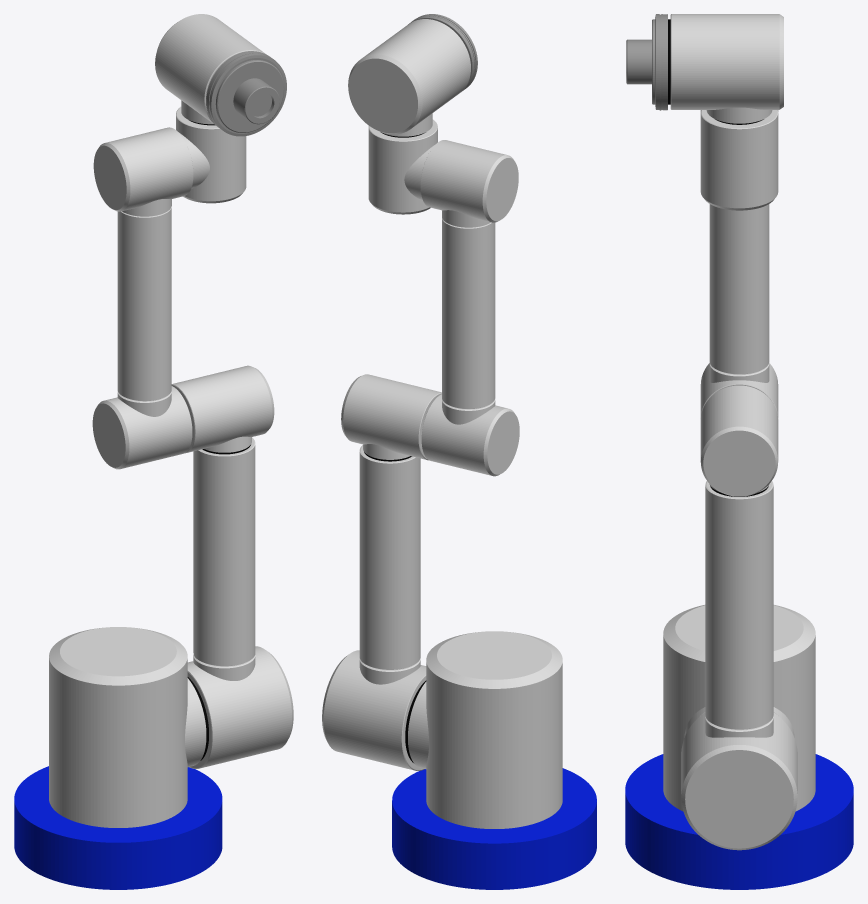
The model's file is arm01.glb.
The picture shows the model from 3 angles, left to right: view 1: azimuth 30°, elevation 25°; view 2: azimuth 150°, elevation 25°; view 3: azimuth 270°, elevation 25°; orthographic projection. The views are drawn at different scales.
Parts seen in each view (by area): view 1: Root01, Base, Arm01_Arm, Arm02_Arm, Arm01_BaseJoint, Arm02_EndJoint, Arm01_EndJoint, Arm03_EndJoint, Arm02_BaseJoint, Tip, Arm03_BaseJoint, Root01_Side (+3 smaller); view 2: Root01, Base, Arm01_Arm, Arm03_EndJoint, Arm02_Arm, Arm01_BaseJoint, Arm02_EndJoint, Arm01_EndJoint, Arm02_BaseJoint, Arm03_BaseJoint, Root01_Side, Tip (+3 smaller); view 3: Base, Arm01_Arm, Arm01_BaseJoint, Root01, Arm03_EndJoint, Arm02_Arm, Arm01_EndJoint, Arm03_BaseJoint, Tip, Arm02_BaseJoint, Arm03_EndJoint_Side, Arm01_BaseJoint_Side (+1 smaller).
Boxes of the visible parts, box(x1,y1,x2,y2) form: Root01: box(49, 627, 187, 827); Base: box(14, 766, 222, 889); Arm01_Arm: box(193, 437, 255, 666); Arm02_Arm: box(117, 207, 171, 401); Arm01_BaseJoint: box(187, 646, 293, 768); Arm02_EndJoint: box(93, 127, 193, 211); Arm01_EndJoint: box(171, 365, 274, 453); Arm03_EndJoint: box(155, 14, 266, 125); Arm02_BaseJoint: box(92, 386, 192, 469); Tip: box(206, 51, 286, 136); Arm03_BaseJoint: box(176, 107, 246, 203); Root01_Side: box(185, 678, 206, 767); Root01: box(426, 631, 562, 828); Base: box(392, 768, 596, 889); Arm01_Arm: box(359, 445, 420, 669); Arm03_EndJoint: box(348, 19, 470, 134); Arm02_Arm: box(442, 218, 495, 408); Arm01_BaseJoint: box(322, 650, 426, 770); Arm02_EndJoint: box(420, 140, 518, 222); Arm01_EndJoint: box(341, 374, 441, 460); Arm02_BaseJoint: box(421, 394, 519, 476); Arm03_BaseJoint: box(368, 119, 437, 214); Root01_Side: box(408, 682, 428, 768); Tip: box(408, 14, 477, 91); Base: box(625, 754, 853, 889); Arm01_Arm: box(705, 481, 773, 729); Arm01_BaseJoint: box(681, 712, 797, 850); Root01: box(663, 605, 815, 811); Arm03_EndJoint: box(670, 14, 783, 109); Arm02_Arm: box(709, 204, 769, 374); Arm01_EndJoint: box(700, 385, 778, 496); Arm03_BaseJoint: box(700, 110, 778, 210); Tip: box(626, 14, 667, 110); Arm02_BaseJoint: box(700, 363, 778, 418); Arm03_EndJoint_Side: box(706, 107, 772, 123); Arm01_BaseJoint_Side: box(705, 717, 773, 737).
Size of the model in its own units: 4.01 by 12.64 by 3.
